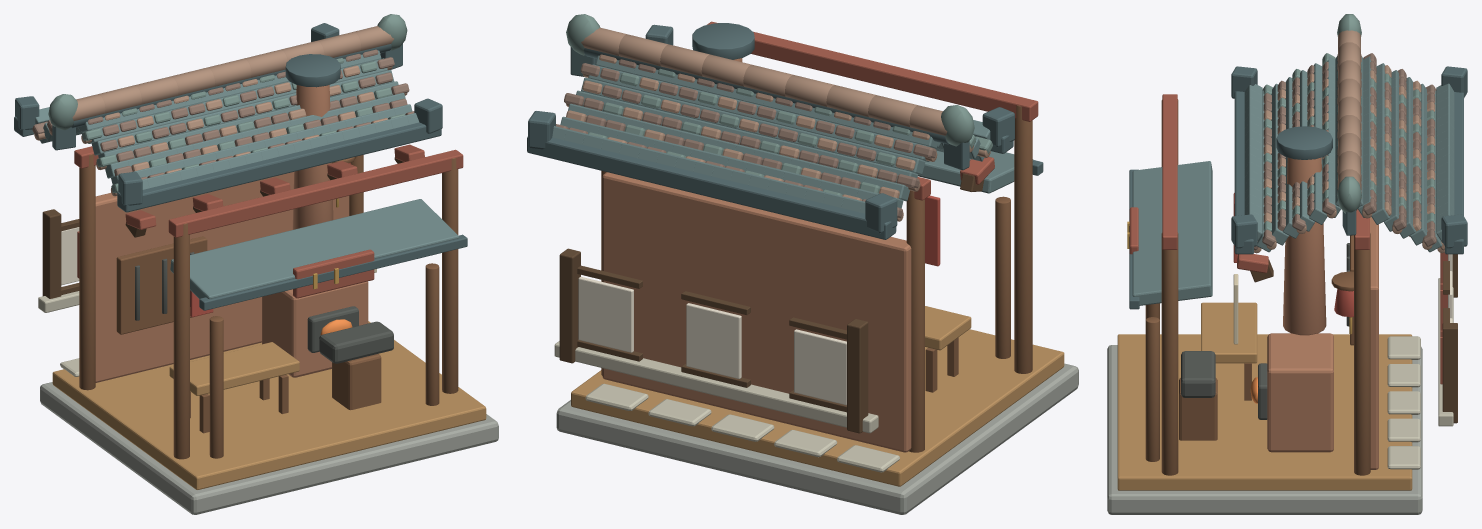
Rendered from building_workshop_open.glb.
The picture shows the model from 3 angles, left to right: view 1: azimuth 30°, elevation 25°; view 2: azimuth 150°, elevation 25°; view 3: azimuth 270°, elevation 25°; orthographic projection. The views are drawn at different scales.
Parts seen in each view (by area): view 1: V4_wood_light.004, V4_roof.004, V4_wood.004, V4_brick.001, V4_roof_edge.004, V4_stone.004, V4_wood_red.004, V4_roof_terracotta_light.004, V4_roof_terracotta.004, V4_roof_moss.004, V4_iron.001, V4_wood_dark.004 (+2 smaller); view 2: V4_brick.001, V4_roof.004, V4_wood_light.004, V4_roof_edge.004, V4_stone.004, V4_roof_terracotta_light.004, V4_wood.004, V4_plaster_light.004, V4_stone_light.004, V4_roof_terracotta.004, V4_wood_dark.004, V4_wood_red.004 (+2 smaller); view 3: V4_roof.004, V4_wood_light.004, V4_brick.001, V4_wood.004, V4_stone.004, V4_roof_edge.004, V4_roof_terracotta_light.004, V4_roof_terracotta.004, V4_stone_light.004, V4_wood_red.004, V4_roof_moss.004, V4_iron.001 (+3 smaller).
Part boxes in pixels (x1,y1,x2,y2): V4_wood_light.004: (52,321,486,489); V4_roof.004: (35,50,458,298); V4_wood.004: (79,154,458,459); V4_brick.001: (95,85,368,382); V4_roof_edge.004: (14,23,467,310); V4_stone.004: (40,382,498,514); V4_wood_red.004: (74,144,463,298); V4_roof_terracotta_light.004: (34,26,407,196); V4_roof_terracotta.004: (32,49,414,179); V4_roof_moss.004: (48,14,407,193); V4_iron.001: (135,252,393,363); V4_wood_dark.004: (42,157,403,298); V4_brick.001: (602,58,911,452); V4_roof.004: (552,55,1033,213); V4_wood_light.004: (571,306,1064,486); V4_roof_edge.004: (527,23,1043,239); V4_stone.004: (556,363,1078,514); V4_roof_terracotta_light.004: (566,27,990,221); V4_wood.004: (601,105,1032,452); V4_plaster_light.004: (578,276,846,405); V4_stone_light.004: (554,341,899,472); V4_roof_terracotta.004: (556,59,936,218); V4_wood_dark.004: (559,173,984,433); V4_wood_red.004: (707,21,1038,200); V4_roof.004: (1132,56,1454,305); V4_wood_light.004: (1117,302,1412,490); V4_brick.001: (1267,157,1378,469); V4_wood.004: (1145,99,1370,475); V4_stone.004: (1107,345,1422,514); V4_roof_edge.004: (1129,66,1467,309); V4_roof_terracotta_light.004: (1254,30,1444,253); V4_roof_terracotta.004: (1254,53,1436,250); V4_stone_light.004: (1387,278,1453,469); V4_wood_red.004: (1129,94,1447,384); V4_roof_moss.004: (1262,14,1435,231); V4_iron.001: (1181,243,1349,419).
Bounding box in the file's own units: 3.26 × 2.97 × 2.81.
